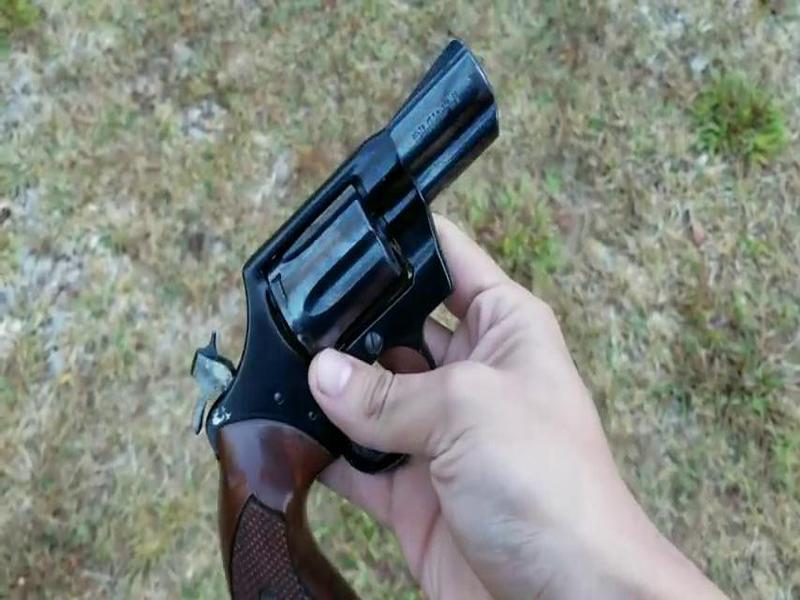Revolver: (197, 31, 533, 600)
